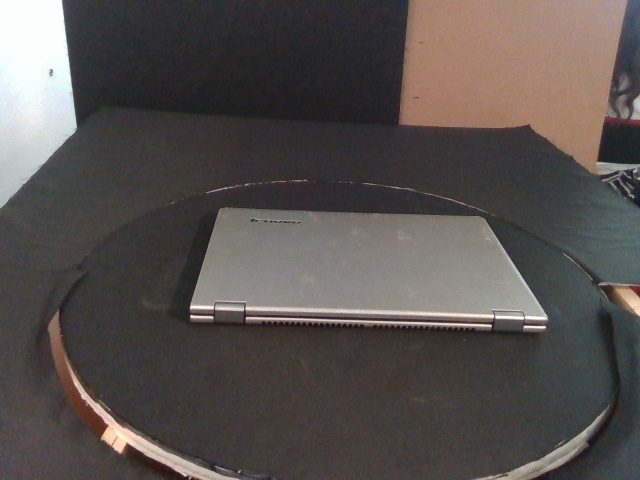laptop: (189, 207, 550, 336)
